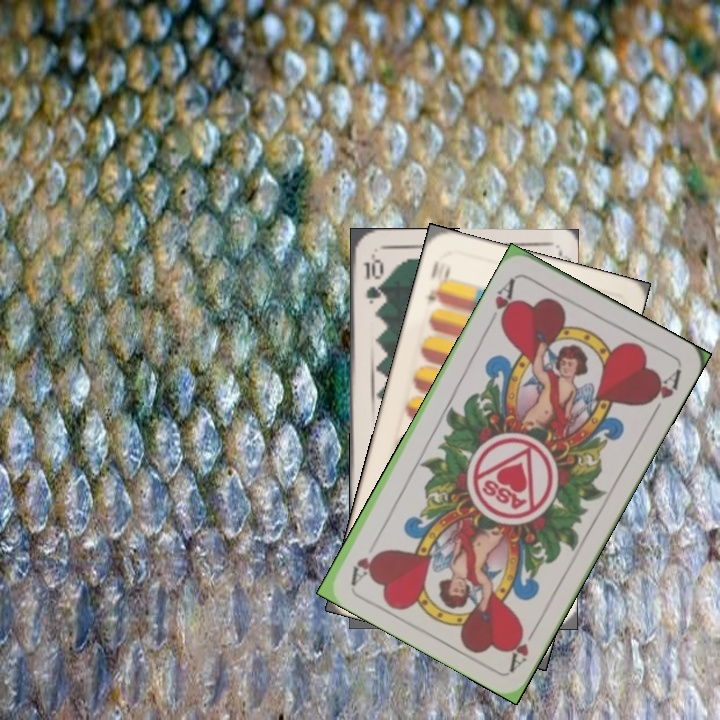E10: (424, 256, 453, 308)
G10: (359, 253, 384, 306)
HA: (505, 619, 543, 673), (484, 274, 518, 328)
